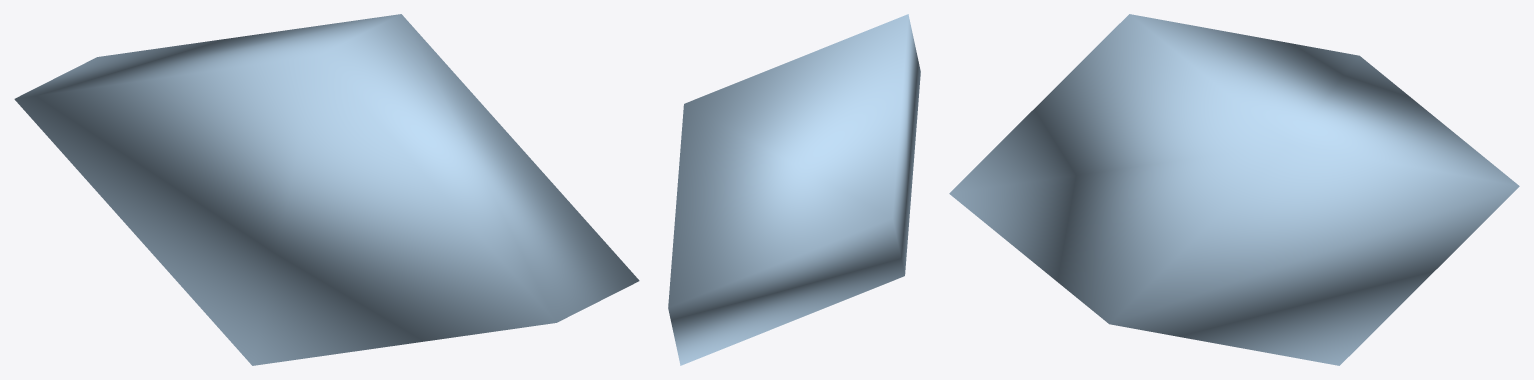
Rendered from calcite-scalenohedron.glb.
3 renders of one model, left to right at view 1: azimuth 30°, elevation 25°; view 2: azimuth 150°, elevation 25°; view 3: azimuth 270°, elevation 25°, orthographic. The views are drawn at different scales.
Visible parts, largest first — view 1: calcite-scalenohedron; view 2: calcite-scalenohedron; view 3: calcite-scalenohedron.
Boxes of the visible parts, <box> form: calcite-scalenohedron: <box>14,14,639,365</box>; calcite-scalenohedron: <box>668,14,920,365</box>; calcite-scalenohedron: <box>949,14,1519,365</box>.
Bounding box in the file's own units: 3.4 × 3.03 × 5.31.
